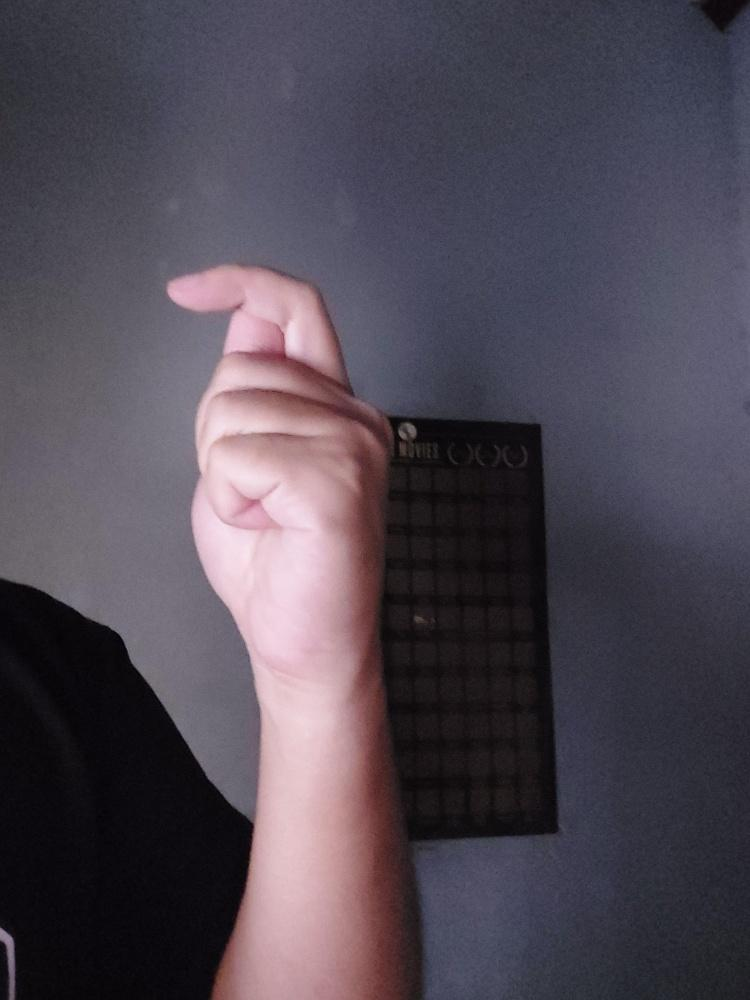t: (163, 263, 396, 680)
